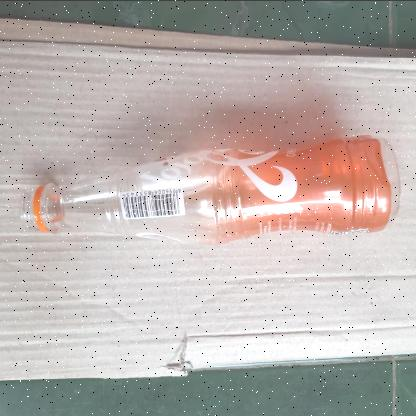Plastic Bottle: (18, 134, 400, 247)
